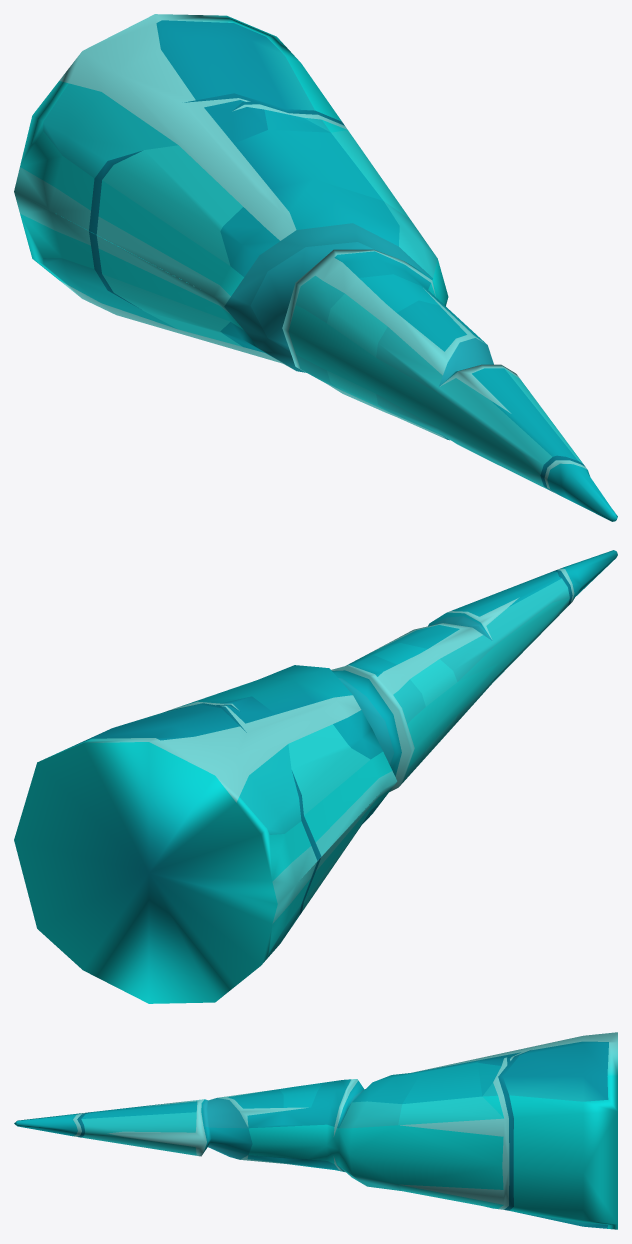
Rendered from icicleA.fbx.
3 renders of one model, top to bottom at view 1: azimuth 30°, elevation 25°; view 2: azimuth 150°, elevation 25°; view 3: azimuth 270°, elevation 25°, orthographic. The views are drawn at different scales.
Visible parts, largest first — view 1: IcicleA (2); view 2: IcicleA (2); view 3: IcicleA (2).
Part boxes in pixels (x1,y1,x2,y2): IcicleA (2): (14,14,617,521); IcicleA (2): (14,550,617,1003); IcicleA (2): (14,1032,617,1229).
Bounding box in the file's own units: 92.08 × 87.4 × 269.
